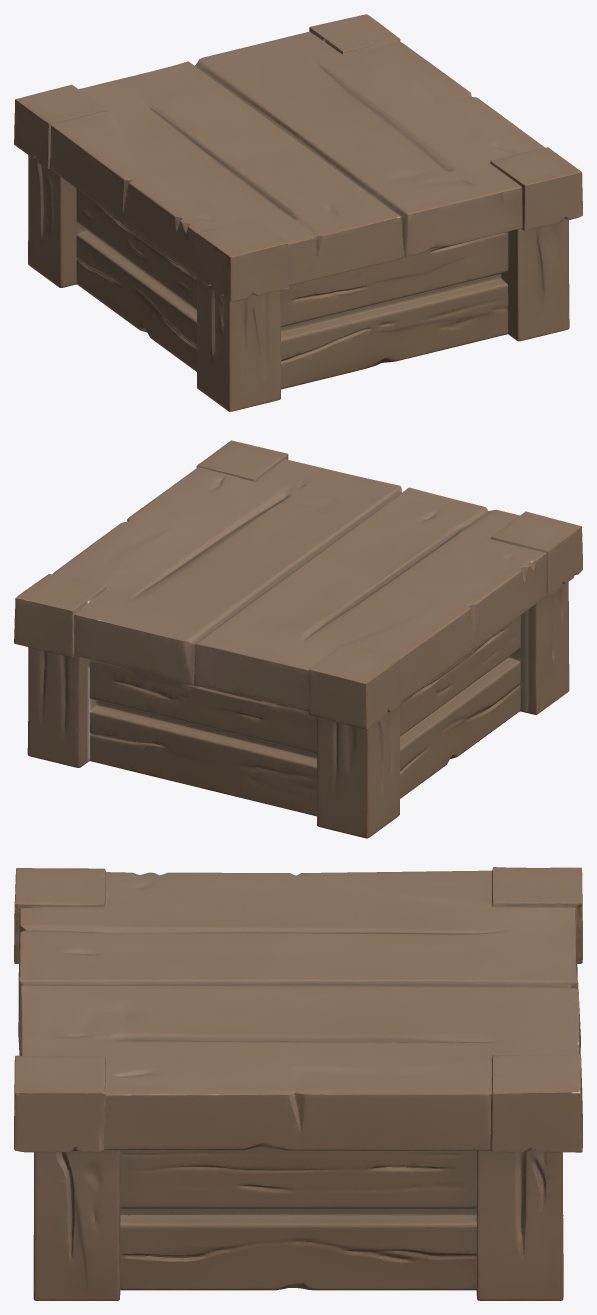
The model's file is base_basic_pbr.fbx.
3 renders of one model, top to bottom at view 1: azimuth 30°, elevation 25°; view 2: azimuth 150°, elevation 25°; view 3: azimuth 270°, elevation 25°, orthographic. The views are drawn at different scales.
Parts seen in each view (by area): view 1: model; view 2: model; view 3: model.
Boxes of the visible parts, x1=… form: model: x1=14, y1=14, x2=582, y2=411; model: x1=14, y1=440, x2=582, y2=838; model: x1=14, y1=867, x2=582, y2=1300.
Size of the model in its own units: 179 by 79.29 by 190.
Materials: 1 (1 with a texture image).
